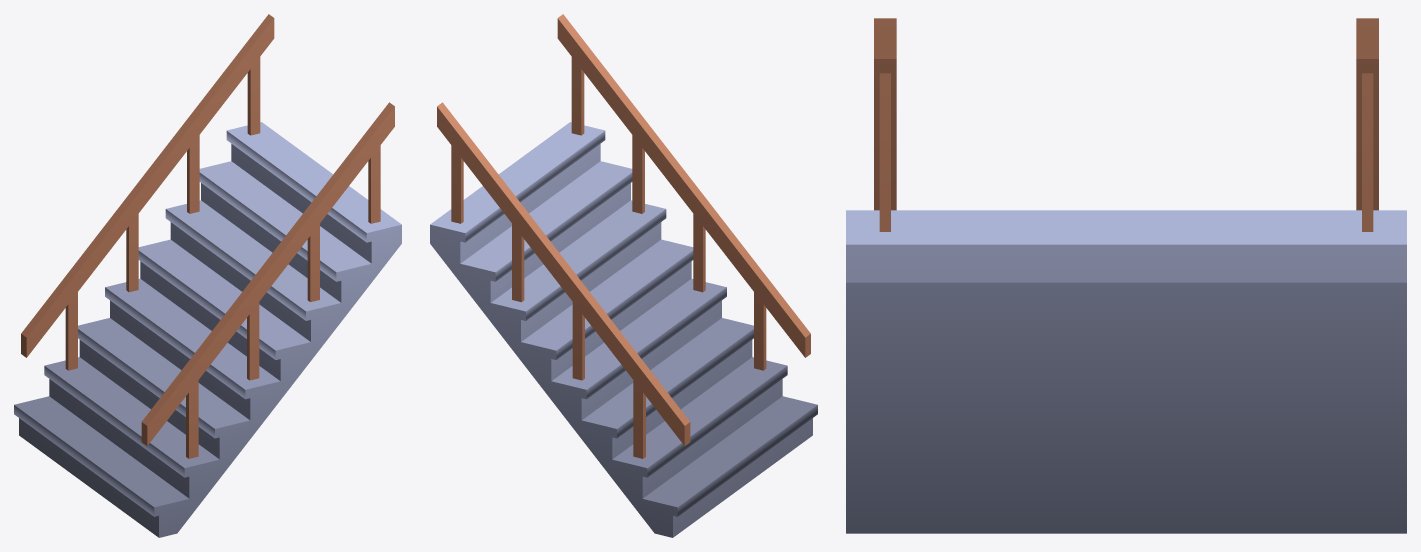
File: stairs-wide-stone-handrail.glb
3 renders of one model, left to right at view 1: azimuth 30°, elevation 25°; view 2: azimuth 150°, elevation 25°; view 3: azimuth 270°, elevation 25°, orthographic. The views are drawn at different scales.
Visible parts, largest first — view 1: stairs-wide-stone-handrail; view 2: stairs-wide-stone-handrail; view 3: stairs-wide-stone-handrail.
Part boxes in pixels (x1,y1,x2,y2): stairs-wide-stone-handrail: (14,14,401,537); stairs-wide-stone-handrail: (430,14,817,537); stairs-wide-stone-handrail: (846,18,1406,533).
Bounding box in the file's own units: 1.02 × 1.45 × 1.
Materials: 1 (1 with a texture image).
